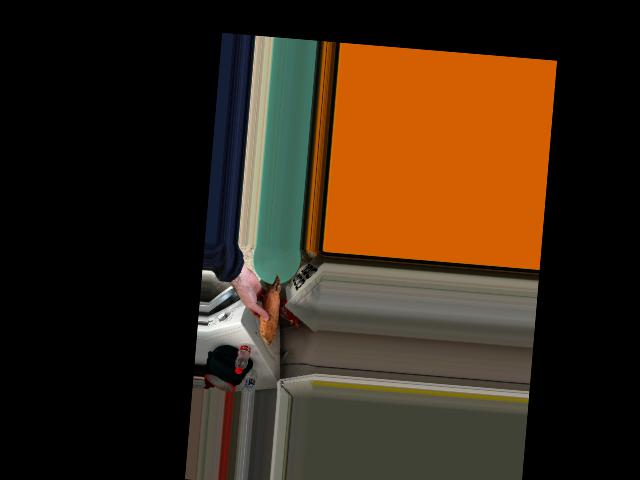sweet_potato: (254, 272, 283, 340)
